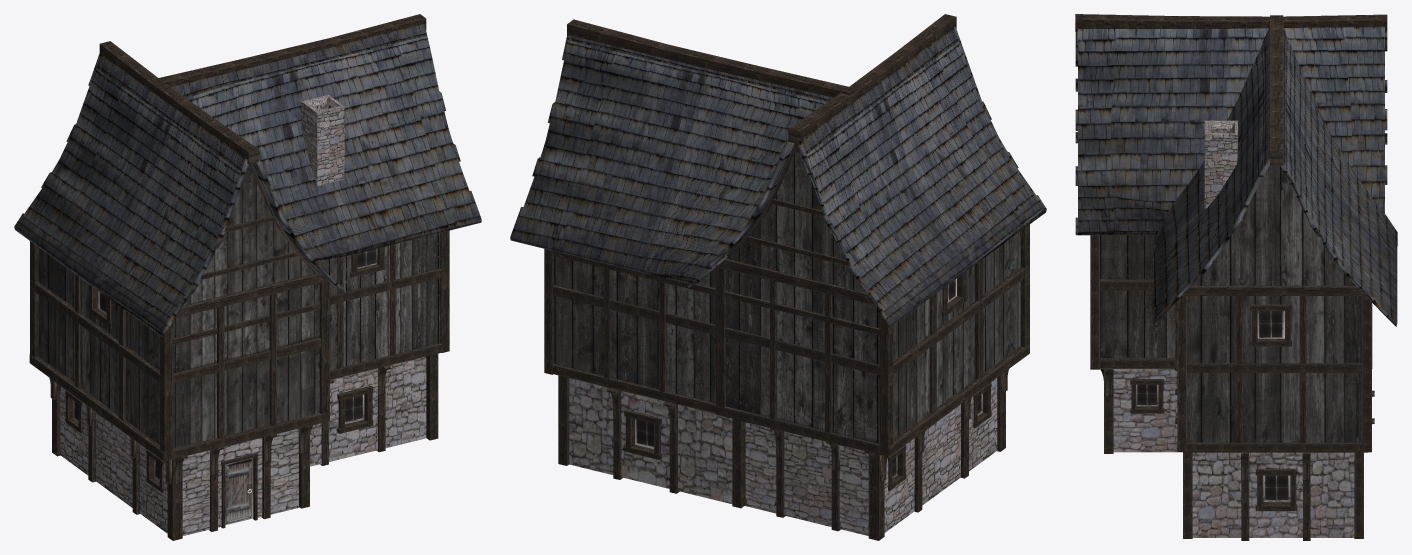
The model's file is large-medieval-house2.glb.
The picture shows the model from 3 angles, left to right: view 1: azimuth 30°, elevation 25°; view 2: azimuth 150°, elevation 25°; view 3: azimuth 270°, elevation 25°; orthographic projection. The views are drawn at different scales.
Visible parts, largest first — view 1: Large Medieval House; view 2: Large Medieval House; view 3: Large Medieval House.
Boxes of the visible parts, x1,y1,x2,y2 form: Large Medieval House: [14, 14, 481, 540]; Large Medieval House: [510, 14, 1046, 540]; Large Medieval House: [1075, 14, 1397, 540].
Bounding box in the file's own units: 17.38 × 17.94 × 12.98.
7 materials, 6 textured.
